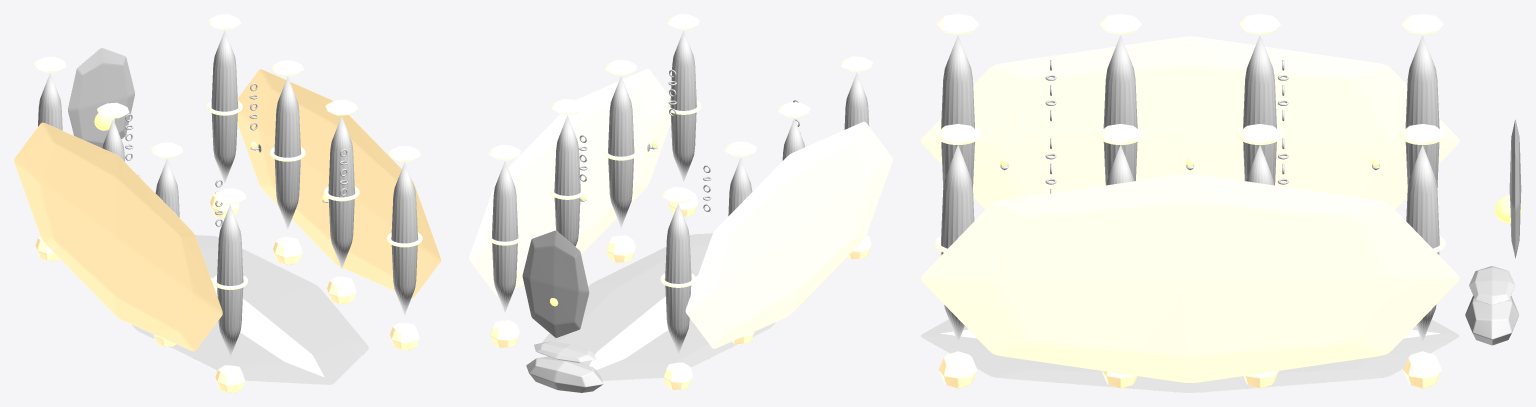
Rendered from floor_boss_approach_r2_v3.glb.
3 renders of one model, left to right at view 1: azimuth 30°, elevation 25°; view 2: azimuth 150°, elevation 25°; view 3: azimuth 270°, elevation 25°, orthographic. The views are drawn at different scales.
Parts seen in each view (by area): view 1: ba_wL, ba_wR, ba_floor, ba_throne_back, ba_pl_s_2_2.8, ba_pl_s_0_2.8, ba_pl_s_3_2.8, ba_pl_s_0_-2.8, ba_pl_s_1_2.8, ba_strip, ba_pl_s_3_-2.8, ba_pl_s_1_-2.8 (+13 smaller); view 2: ba_wL, ba_wR, ba_floor, ba_throne_back, ba_pl_s_1_2.8, ba_pl_s_3_2.8, ba_pl_s_3_-2.8, ba_pl_s_0_2.8, ba_pl_s_2_2.8, ba_strip, ba_throne_b, ba_pl_s_0_-2.8 (+14 smaller); view 3: ba_wR, ba_wL, ba_floor, ba_pl_s_0_-2.8, ba_pl_s_3_-2.8, ba_pl_s_2_-2.8, ba_pl_s_1_-2.8, ba_pl_s_3_2.8, ba_pl_s_0_2.8, ba_throne_b, ba_throne_seat, ba_throne_back (+12 smaller).
Boxes of the visible parts, <box> form: ba_wL: <box>14,122,222,351</box>; ba_wR: <box>237,69,440,297</box>; ba_floor: <box>132,235,368,384</box>; ba_throne_back: <box>68,47,134,147</box>; ba_pl_s_2_2.8: <box>274,76,300,229</box>; ba_pl_s_0_2.8: <box>391,162,417,314</box>; ba_pl_s_3_2.8: <box>211,30,237,183</box>; ba_pl_s_0_-2.8: <box>217,204,243,357</box>; ba_pl_s_1_2.8: <box>328,116,354,268</box>; ba_strip: <box>210,277,324,377</box>; ba_pl_s_3_-2.8: <box>38,73,62,130</box>; ba_pl_s_1_-2.8: <box>155,158,179,217</box>; ba_wL: <box>685,121,892,348</box>; ba_wR: <box>469,69,670,295</box>; ba_floor: <box>542,233,775,380</box>; ba_throne_back: <box>522,230,589,337</box>; ba_pl_s_1_2.8: <box>608,76,634,227</box>; ba_pl_s_3_2.8: <box>492,161,518,312</box>; ba_pl_s_3_-2.8: <box>665,203,691,354</box>; ba_pl_s_0_2.8: <box>670,30,696,181</box>; ba_pl_s_2_2.8: <box>554,115,580,246</box>; ba_strip: <box>589,275,697,369</box>; ba_throne_b: <box>526,356,603,392</box>; ba_pl_s_0_-2.8: <box>844,72,869,129</box>; ba_wR: <box>921,174,1459,382</box>; ba_wL: <box>921,36,1459,209</box>; ba_floor: <box>921,319,1459,392</box>; ba_pl_s_0_-2.8: <box>941,35,974,187</box>; ba_pl_s_3_-2.8: <box>1405,35,1439,187</box>; ba_pl_s_2_-2.8: <box>1243,35,1276,185</box>; ba_pl_s_1_-2.8: <box>1103,35,1137,184</box>; ba_pl_s_3_2.8: <box>1406,145,1439,342</box>; ba_pl_s_0_2.8: <box>941,145,974,342</box>; ba_throne_b: <box>1465,295,1518,345</box>; ba_throne_seat: <box>1469,266,1515,304</box>; ba_throne_back: <box>1509,119,1521,258</box>.
Size of the model in its own units: 7.17 by 6.27 by 12.94.
